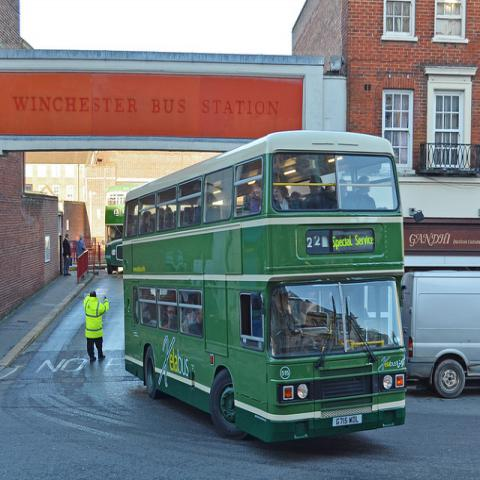bus: (123, 135, 407, 441), (104, 186, 142, 274)
truck: (406, 266, 478, 398), (104, 185, 140, 273)
